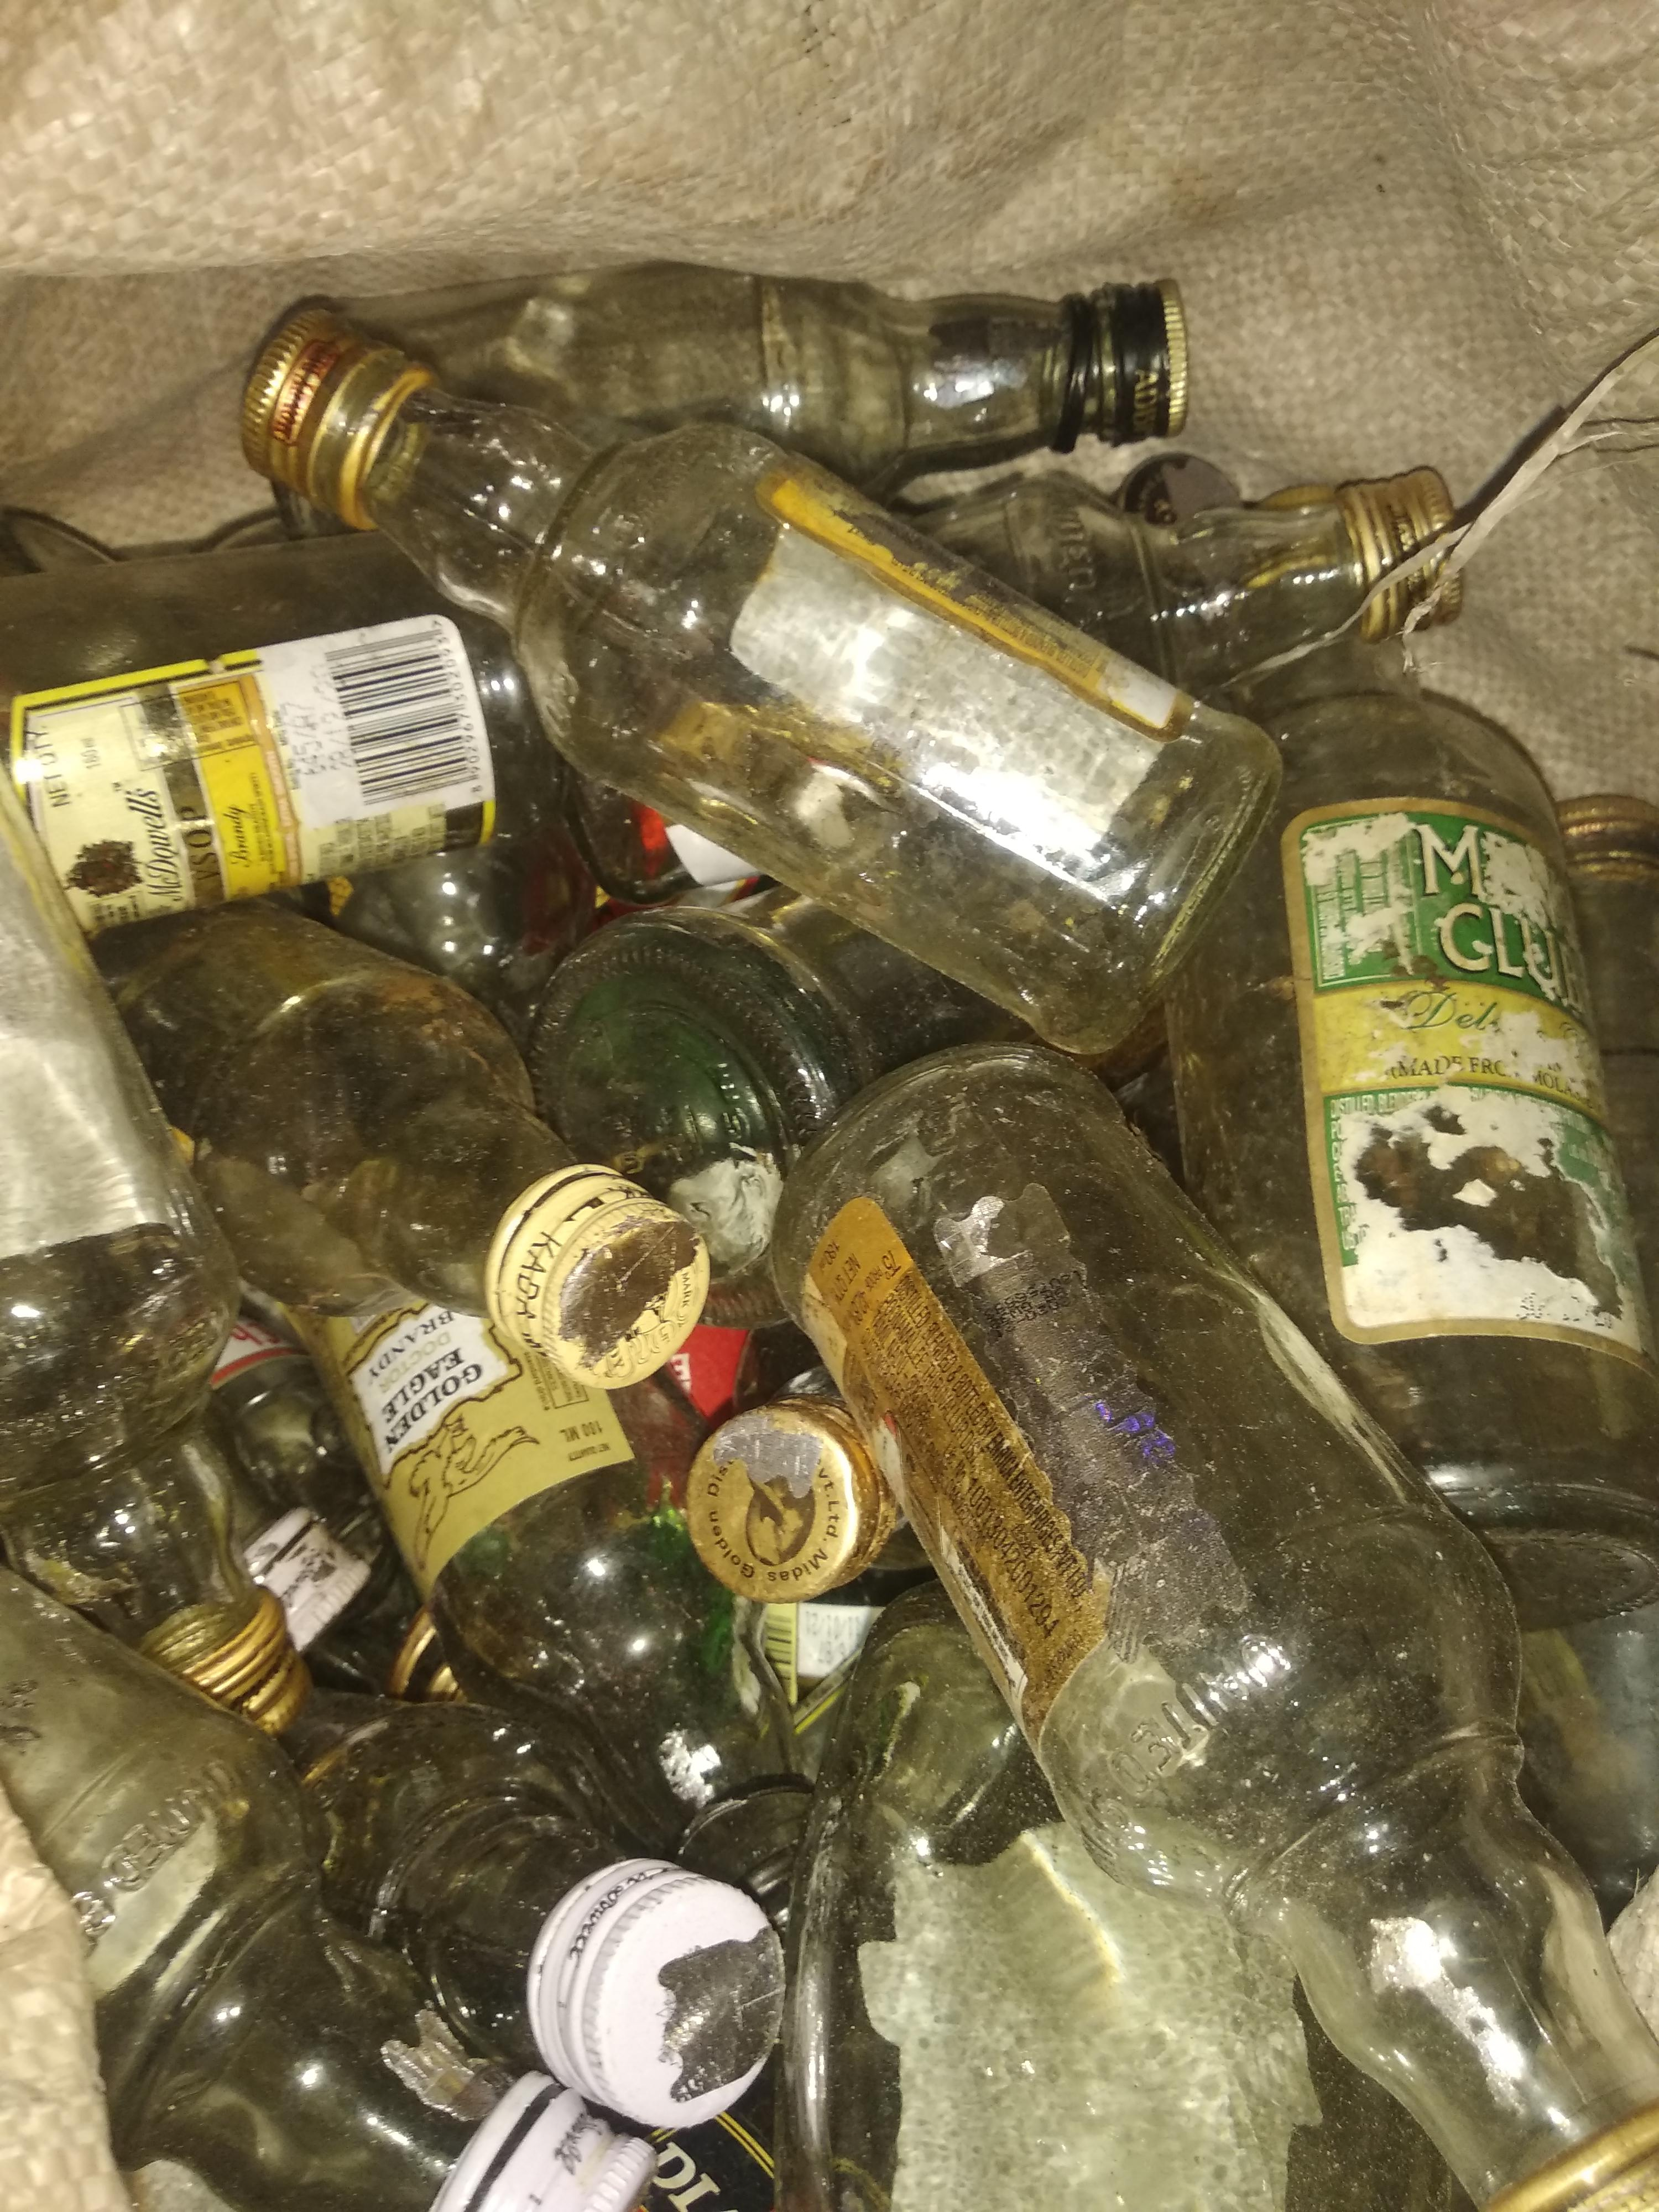trash: (0, 226, 1647, 2212)
